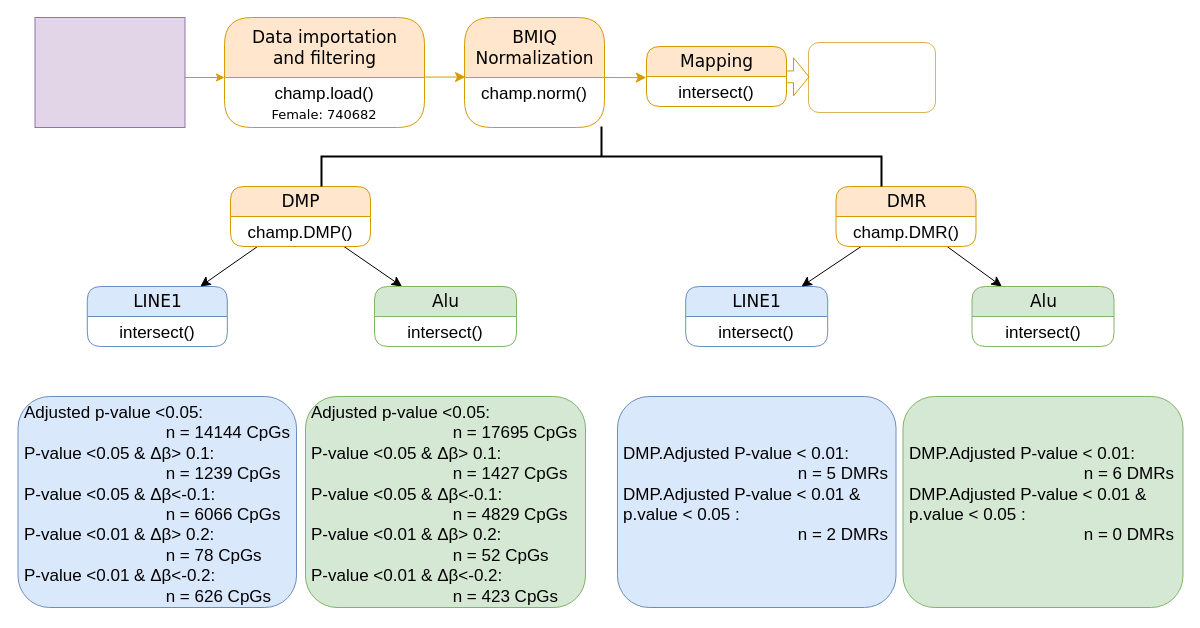
The diagram is 1200 pixels wide and 628 high, and some of its shapes have lost their labels. The shapes that lost their labels are listed below. From the top down, each one's centre as x and y in pixels, then its label:
point (109, 72): EPIC 850k Subset Female n=16
point (872, 77): LINE1: 49780 Alu: 50297
